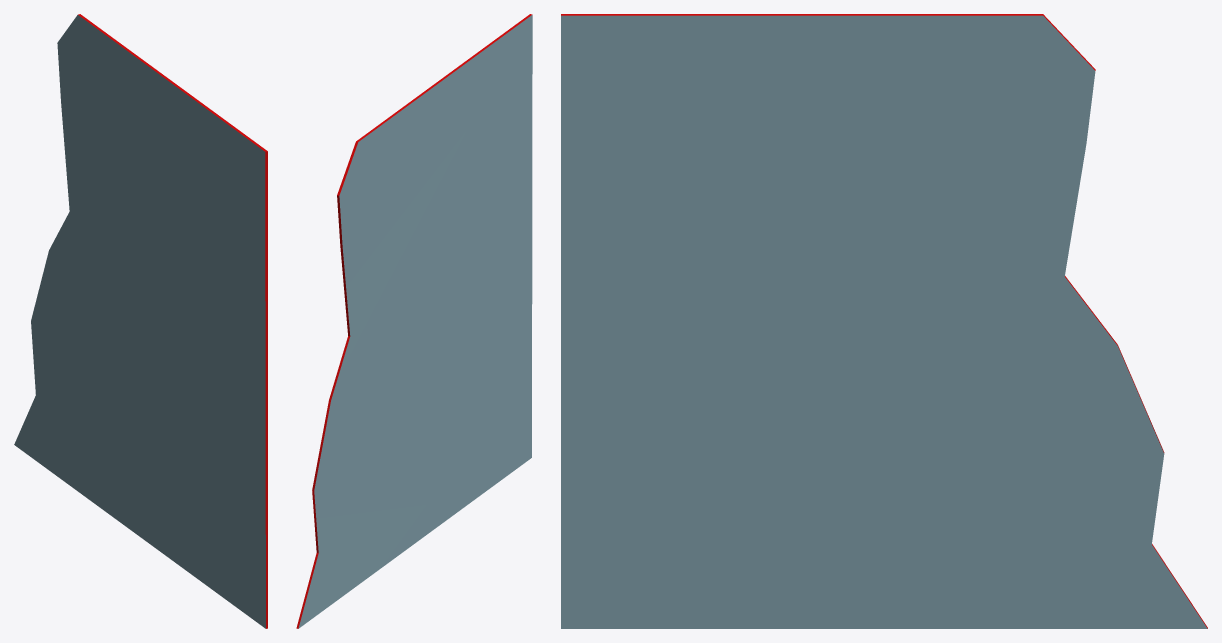
The model's file is Window_Glass_N_01.fbx.
3 renders of one model, left to right at view 1: azimuth 30°, elevation 25°; view 2: azimuth 150°, elevation 25°; view 3: azimuth 270°, elevation 25°, orthographic. The views are drawn at different scales.
Parts seen in each view (by area): view 1: Window_Glass_N_01; view 2: Window_Glass_N_01; view 3: Window_Glass_N_01.
Boxes of the visible parts, x1,y1,x2,y2 form: Window_Glass_N_01: [14, 14, 267, 628]; Window_Glass_N_01: [296, 14, 532, 628]; Window_Glass_N_01: [561, 14, 1207, 628].
Size of the model in its own units: 2.4 by 420 by 402.
